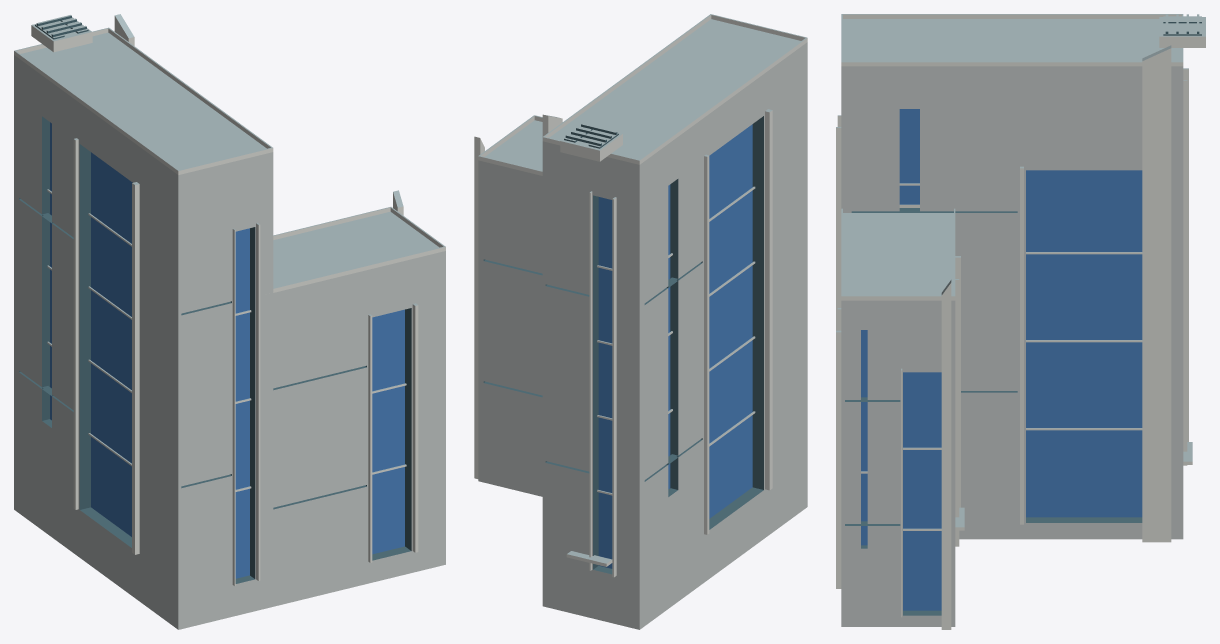
Rendered from 05_Hofwinkel.obj.
The picture shows the model from 3 angles, left to right: view 1: azimuth 30°, elevation 25°; view 2: azimuth 150°, elevation 25°; view 3: azimuth 270°, elevation 25°; orthographic projection. The views are drawn at different scales.
Bounding box in the file's own units: 0.6118 × 1 × 0.6783.
